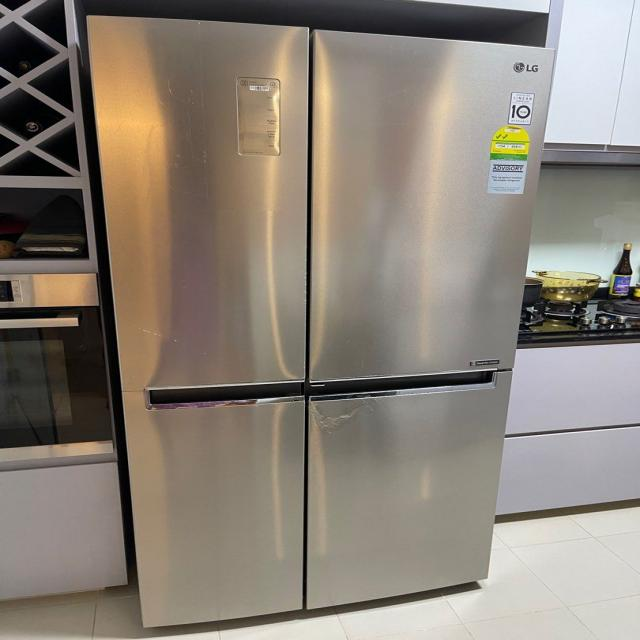refrigerator: (83, 14, 557, 628)
